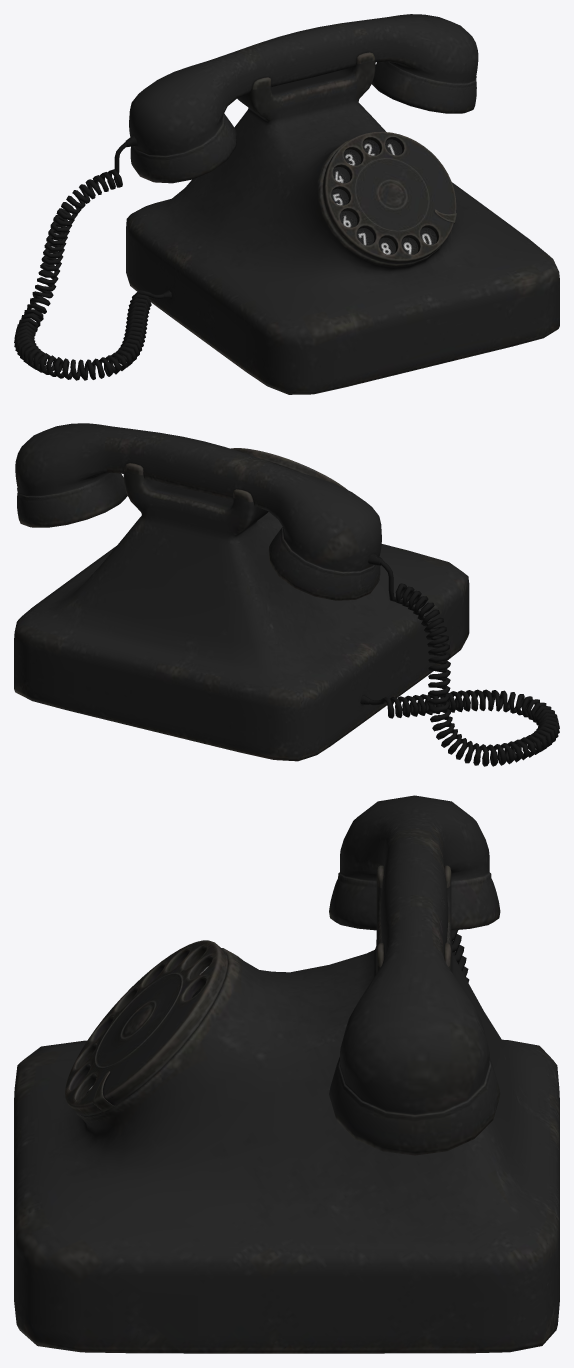
The model's file is old-phone-web.glb.
3 views of the same model, one above another, from view 1: azimuth 30°, elevation 25°; view 2: azimuth 150°, elevation 25°; view 3: azimuth 270°, elevation 25° (orthographic). The views are drawn at different scales.
Parts seen in each view (by area): view 1: Plane; view 2: Plane; view 3: Plane.
Boxes of the visible parts, bbox=[...] form: Plane: bbox=[14, 14, 559, 394]; Plane: bbox=[14, 423, 559, 766]; Plane: bbox=[14, 795, 559, 1353].
Size of the model in its own units: 294 by 143 by 188.
1 material, 1 textured.
